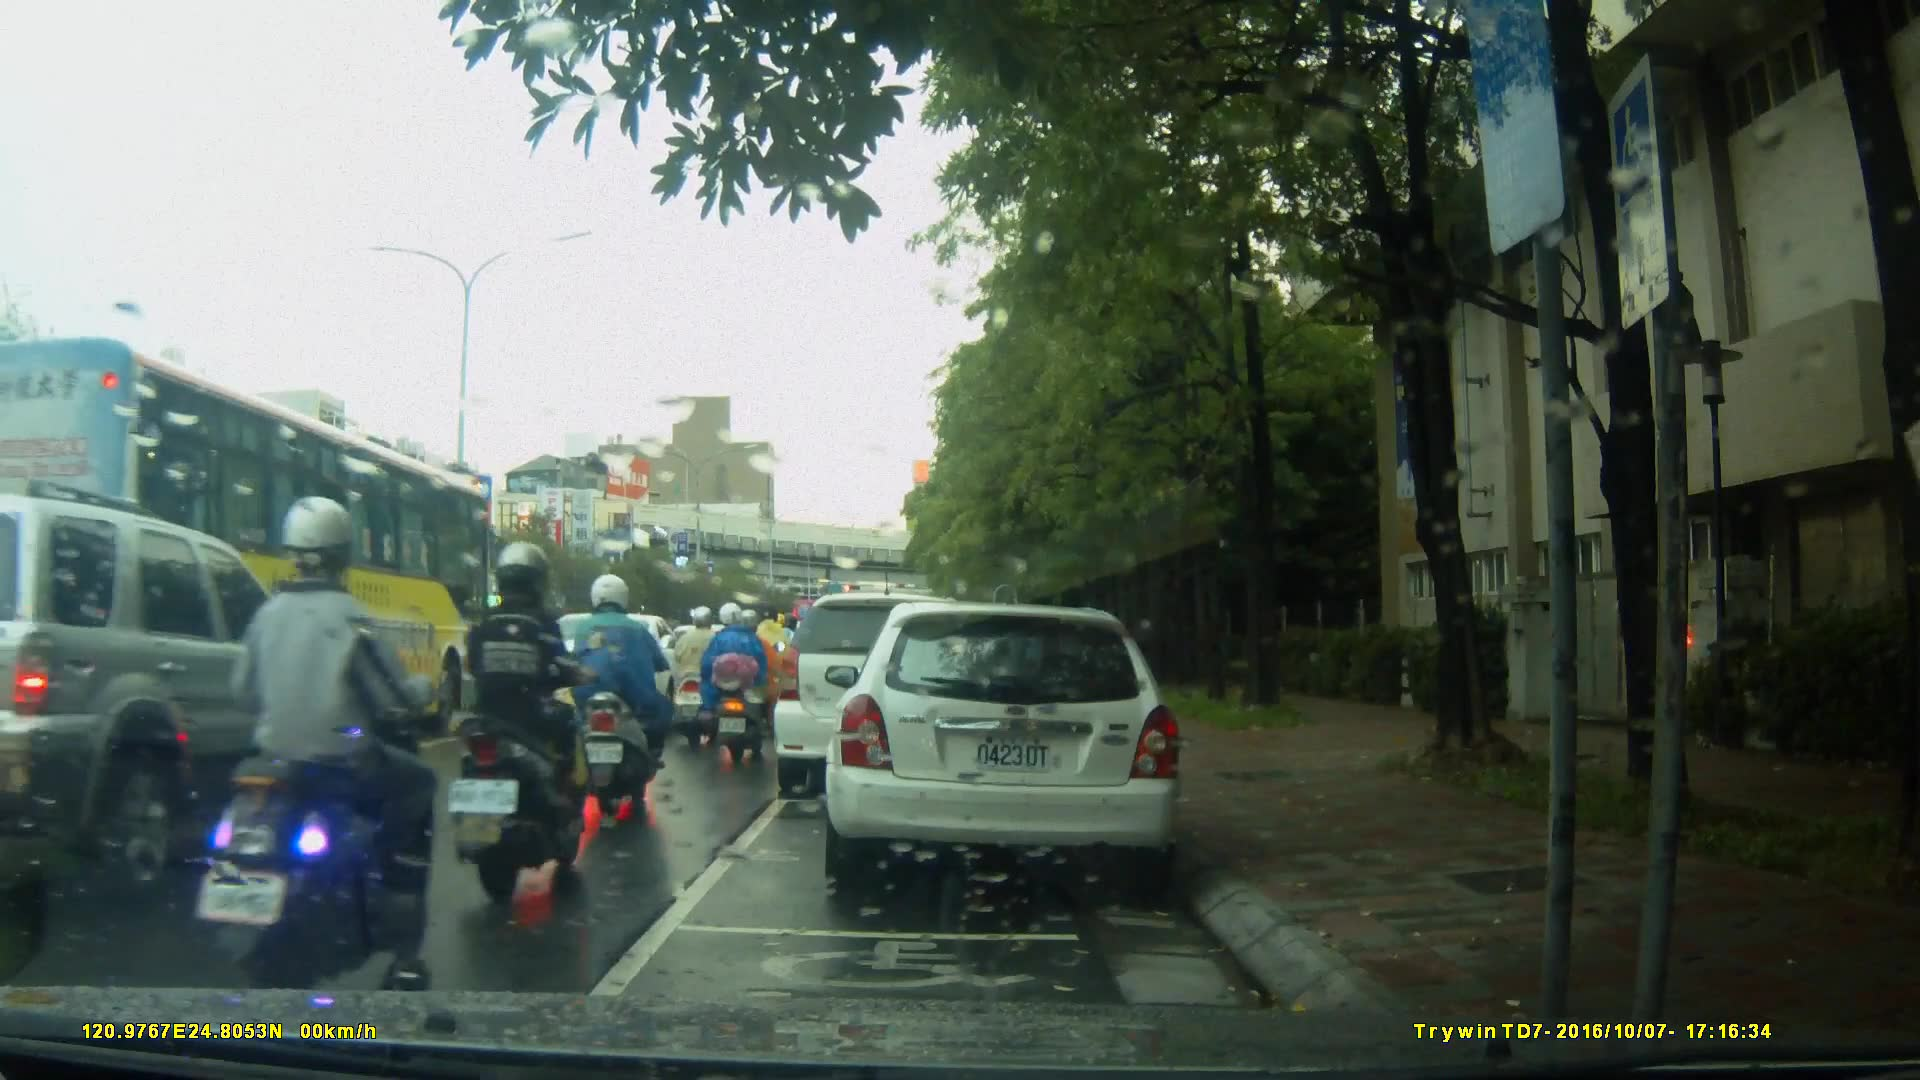rider: (190, 490, 427, 1005), (452, 538, 600, 905), (572, 572, 681, 817), (697, 605, 788, 759), (666, 601, 727, 747), (743, 596, 796, 720)
vehicle: (1, 332, 507, 779), (1, 472, 385, 933), (835, 594, 1194, 898), (776, 590, 1026, 784)
